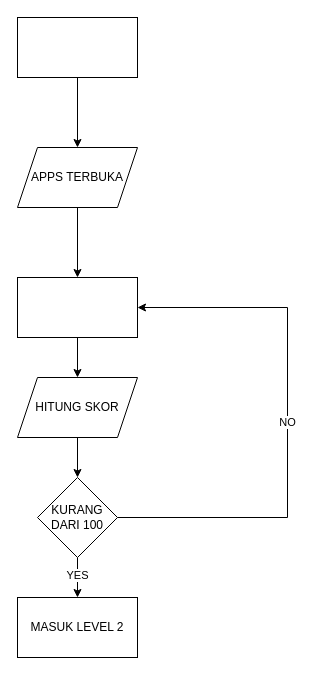
This 313x675 diagram has some shape labels left out. The centre of each missing label's shape, as x and y in pixels:
"ANAK BUKA APPS" belongs at (x=77, y=47).
"BUAH" belongs at (x=77, y=307).
